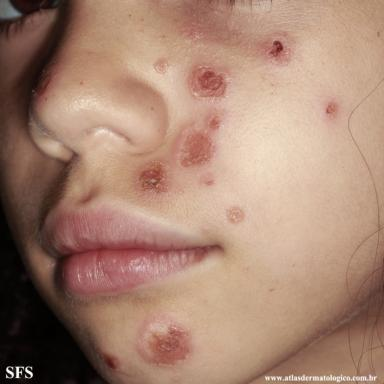Impetigo: (173, 108, 230, 170), (134, 314, 193, 370), (187, 64, 231, 102), (133, 160, 171, 197), (263, 32, 294, 66), (100, 351, 124, 371), (320, 100, 338, 121), (225, 206, 245, 223), (199, 171, 215, 189)
